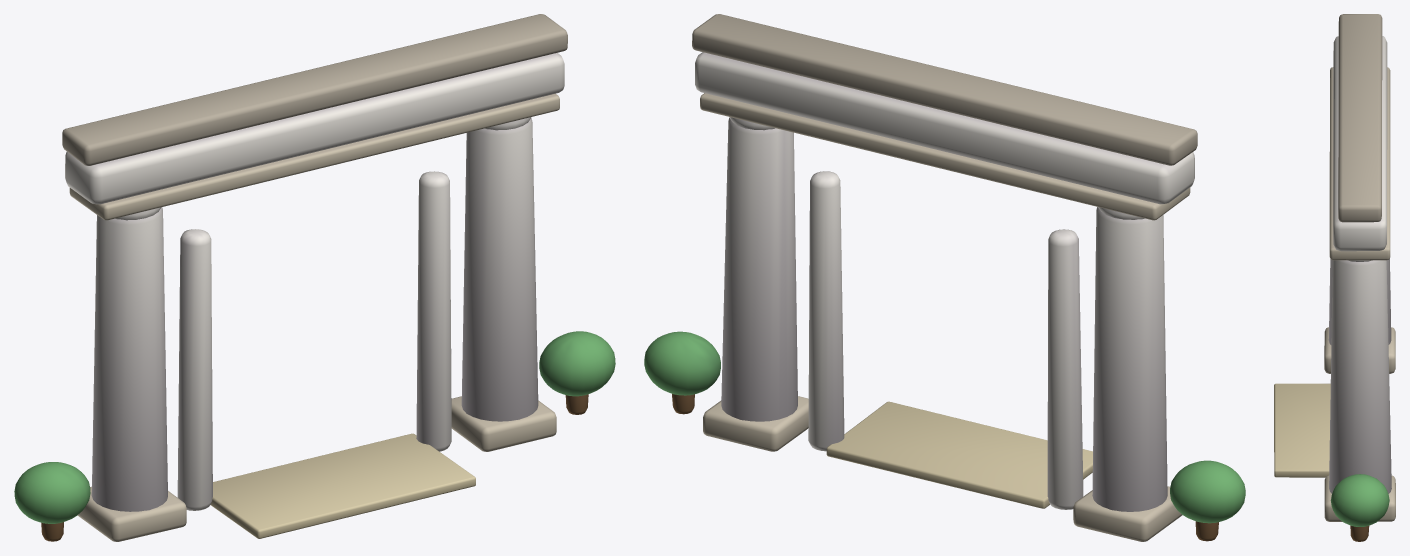
3 views of the same model, side by side, from view 1: azimuth 30°, elevation 25°; view 2: azimuth 150°, elevation 25°; view 3: azimuth 270°, elevation 25° (orthographic). The views are drawn at different scales.
Visible parts, largest first — view 1: gate_1fb58c28; view 2: gate_1fb58c28; view 3: gate_1fb58c28.
Part boxes in pixels (x1=…): gate_1fb58c28: x1=14, y1=14, x2=615, y2=541; gate_1fb58c28: x1=644, y1=14, x2=1245, y2=541; gate_1fb58c28: x1=1274, y1=14, x2=1395, y2=541.
Bounding box in the file's own units: 6.51 × 4.17 × 1.41.
